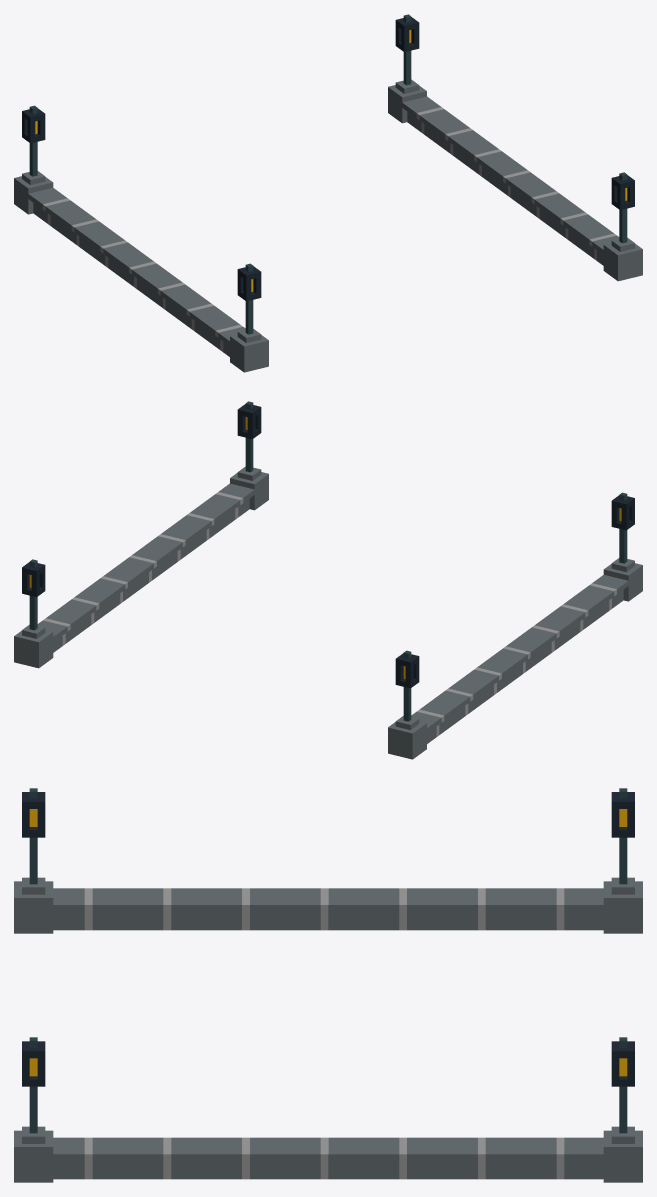
The model's file is bridge_stone_barrier.obj.
The picture shows the model from 3 angles, top to bottom: view 1: azimuth 30°, elevation 25°; view 2: azimuth 150°, elevation 25°; view 3: azimuth 270°, elevation 25°; orthographic projection. The views are drawn at different scales.
Size of the model in its own units: 8 by 1.9 by 8.
1 material, 1 textured.
